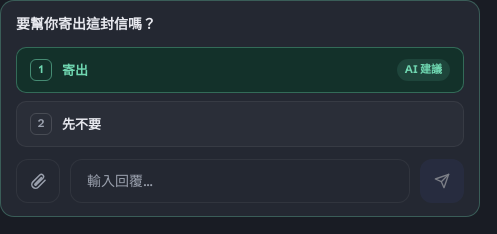
Test: ChatReplyCard › answering via a chip flips the card to answered (你選的 + AI 建議) and drops the waiting count
Click the button with class "reply-option" showing "1 寄出 AI 建議".
click(423, 70)  # box x1=16 y1=47 x2=464 y2=93
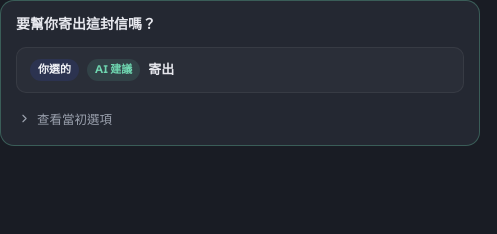
Expected: the element with test id "final-answer" shows "寄出", x1=148 y1=61 x2=174 y2=77
Expected: the element with test id "final-answer" shows "你選的", x1=38 y1=62 x2=71 y2=76
Expected: the element with test id "final-answer" shows "AI 建議", x1=95 y1=62 x2=132 y2=76
